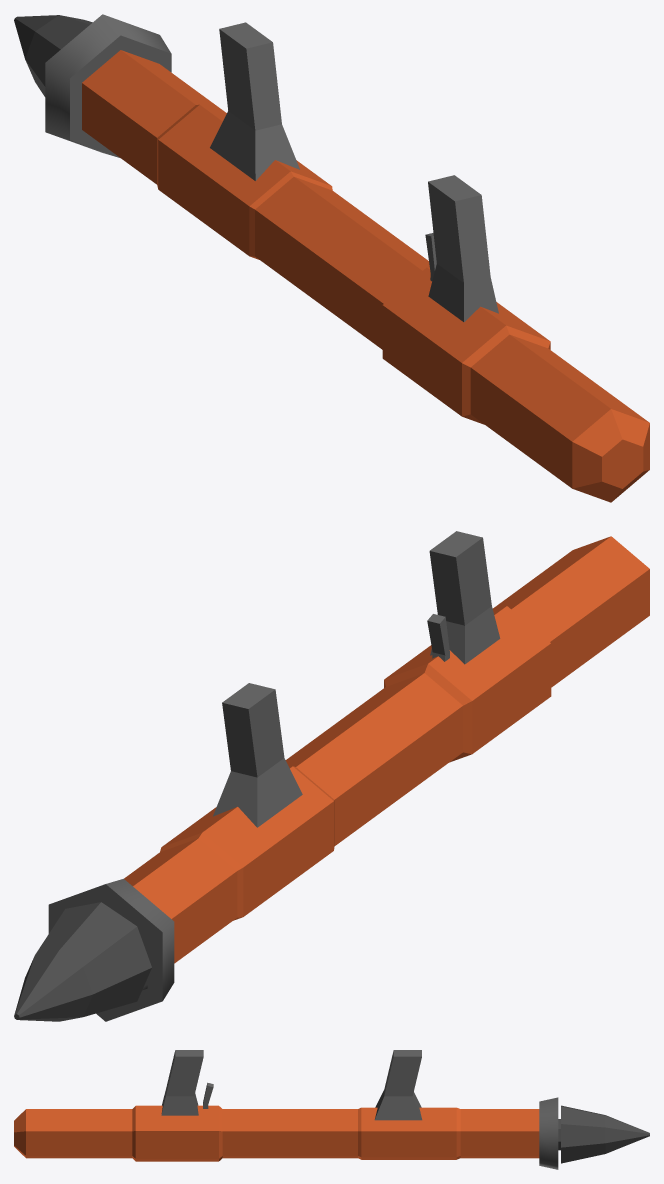
File: artifiks.fbx
3 renders of one model, top to bottom at view 1: azimuth 30°, elevation 25°; view 2: azimuth 150°, elevation 25°; view 3: azimuth 270°, elevation 25°, orthographic. The views are drawn at different scales.
Visible parts, largest first — view 1: Cylinder, Cube.002, Cube, Cylinder.003; view 2: Cylinder, Cylinder.003, Cube.002, Cube, Cube.001; view 3: Cylinder, Cylinder.003, Cube.002, Cube.
Boxes of the visible parts, x1,y1,x2,y2 form: Cylinder: [45, 14, 649, 502]; Cube.002: [210, 22, 299, 180]; Cube: [428, 175, 498, 321]; Cylinder.003: [14, 15, 92, 96]; Cylinder: [48, 536, 649, 1021]; Cylinder.003: [14, 902, 151, 1021]; Cube.002: [213, 683, 302, 827]; Cube: [429, 531, 500, 664]; Cube.001: [427, 614, 449, 661]; Cylinder: [14, 1097, 558, 1169]; Cylinder.003: [558, 1105, 649, 1163]; Cube.002: [374, 1050, 422, 1120]; Cube: [161, 1050, 203, 1115].
Size of the model in its own units: 131 by 243 by 1202.
